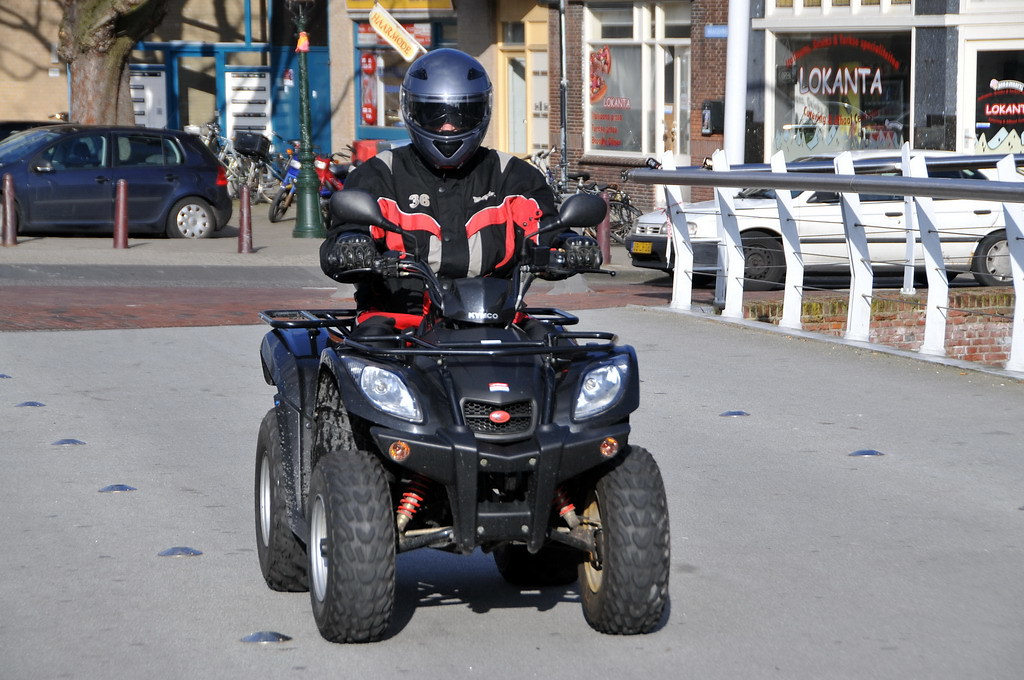helmet: (403, 54, 504, 162)
